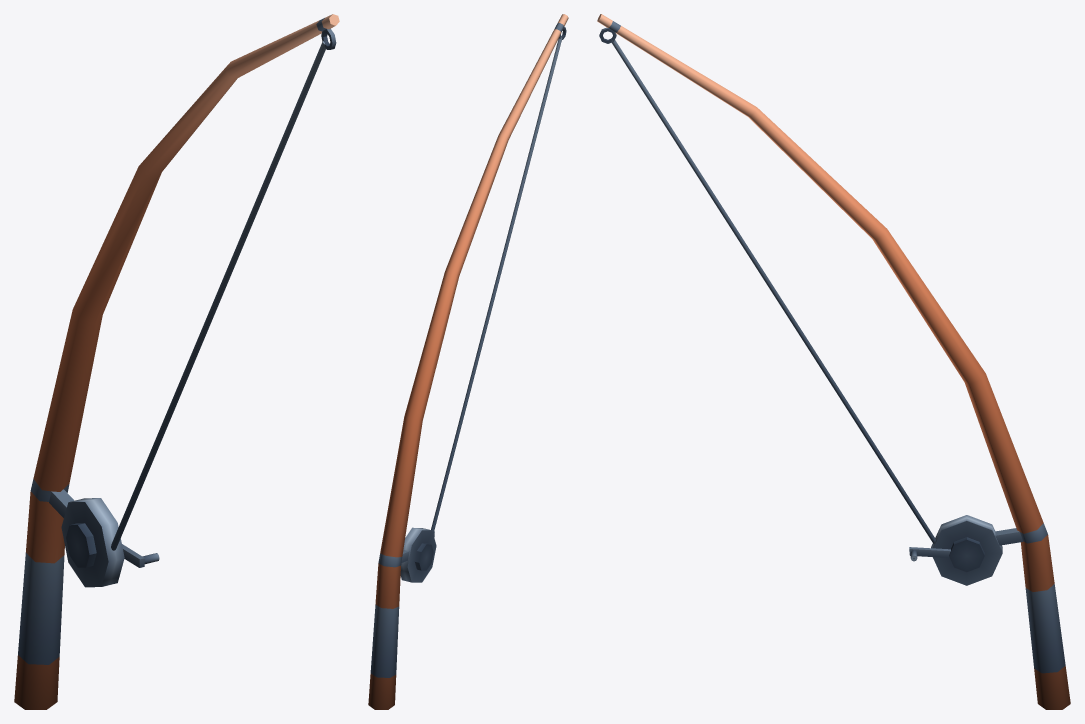
The model's file is Fishing_pole.fbx.
The picture shows the model from 3 angles, left to right: view 1: azimuth 30°, elevation 25°; view 2: azimuth 150°, elevation 25°; view 3: azimuth 270°, elevation 25°; orthographic projection. The views are drawn at different scales.
Visible parts, largest first — view 1: Fishing_pole; view 2: Fishing_pole; view 3: Fishing_pole.
Boxes of the visible parts, x1,y1,x2,y2 form: Fishing_pole: (14, 14, 339, 709); Fishing_pole: (368, 14, 568, 709); Fishing_pole: (597, 14, 1070, 709).
Bounding box in the file's own units: 28.91 × 548 × 341.
